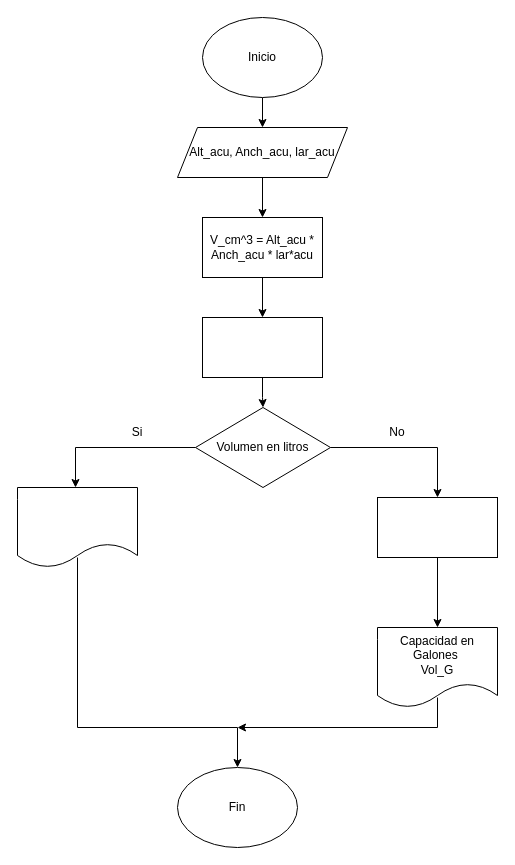
This 515x865 diagram has some shape labels left out. The centre of each missing label's shape, as x and y in pixels:
"Capacidad en litros Vol_L" goes at (77,527).
"Vol_G = Vol_L / 3.785" goes at (437,527).
"Vol_L = V_cm^3 /1000" goes at (262,347).
